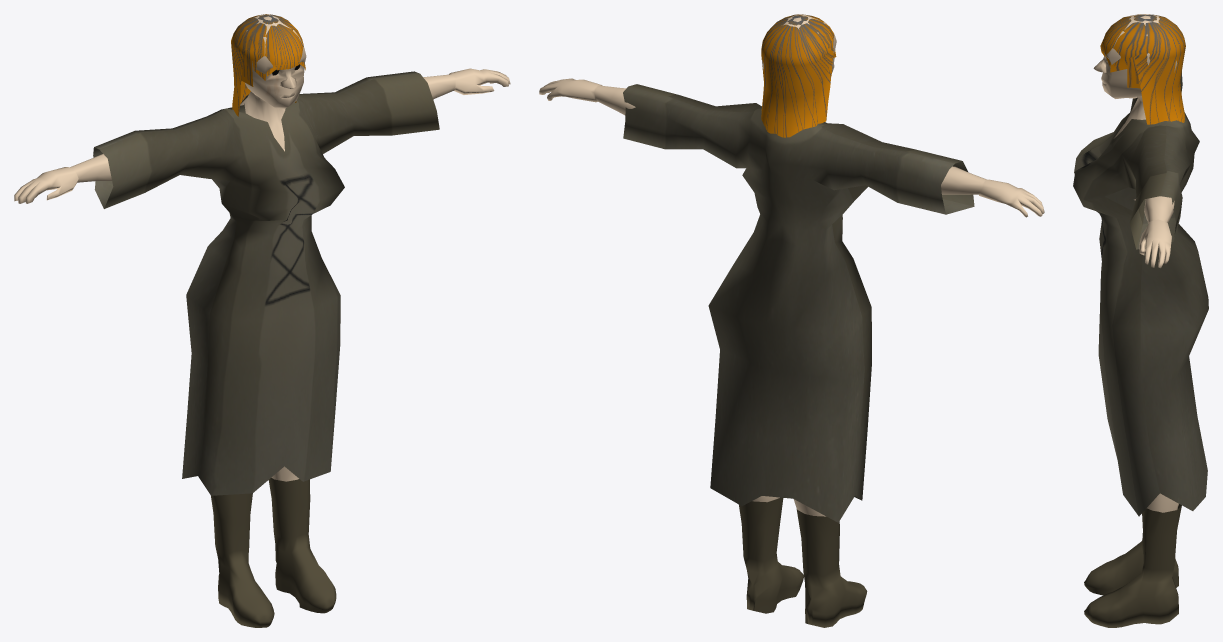
Rendered from Femal_Villager_1.fbx.
The picture shows the model from 3 angles, left to right: view 1: azimuth 30°, elevation 25°; view 2: azimuth 150°, elevation 25°; view 3: azimuth 270°, elevation 25°; orthographic projection.
Visible parts, largest first — view 1: Female_Villager1_Dress, Female_Villager1_Right_Boot, Female_Villager1_Left_Boot, Female_Villager1_Hair, Female_Villager1_Head, Female_Villager1_Left_Arm_Part_2, Female_Villager1_Right_Arm_Part_2, Female_Villager1_Torso; view 2: Female_Villager1_Dress, Female_Villager1_Hair, Female_Villager1_Left_Boot, Female_Villager1_Right_Boot, Female_Villager1_Left_Arm_Part_2, Female_Villager1_Right_Arm_Part_2; view 3: Female_Villager1_Dress, Female_Villager1_Hair, Female_Villager1_Right_Boot, Female_Villager1_Right_Arm_Part_2, Female_Villager1_Left_Boot, Female_Villager1_Head, Female_Villager1_Right_Leg_Part_2, Female_Villager1_Torso.
Part boxes in pixels (x1,y1,x2,y2): Female_Villager1_Dress: [93, 71, 439, 495]; Female_Villager1_Right_Boot: [268, 477, 336, 613]; Female_Villager1_Left_Boot: [211, 493, 274, 627]; Female_Villager1_Hair: [231, 14, 305, 116]; Female_Villager1_Head: [245, 14, 306, 108]; Female_Villager1_Left_Arm_Part_2: [14, 154, 111, 203]; Female_Villager1_Right_Arm_Part_2: [423, 68, 510, 99]; Female_Villager1_Torso: [240, 91, 285, 151]; Female_Villager1_Dress: [623, 84, 974, 522]; Female_Villager1_Hair: [761, 14, 836, 137]; Female_Villager1_Left_Boot: [796, 509, 867, 627]; Female_Villager1_Right_Boot: [738, 497, 803, 613]; Female_Villager1_Left_Arm_Part_2: [941, 166, 1044, 217]; Female_Villager1_Right_Arm_Part_2: [539, 78, 635, 115]; Female_Villager1_Dress: [1073, 71, 1208, 516]; Female_Villager1_Hair: [1100, 14, 1185, 124]; Female_Villager1_Right_Boot: [1084, 504, 1181, 627]; Female_Villager1_Right_Arm_Part_2: [1139, 196, 1174, 268]; Female_Villager1_Left_Boot: [1084, 538, 1178, 595]; Female_Villager1_Head: [1093, 14, 1177, 98]; Female_Villager1_Right_Leg_Part_2: [1147, 493, 1178, 512]; Female_Villager1_Torso: [1114, 96, 1145, 200].
Bounding box in the file's own units: 170 × 191 × 40.03.
